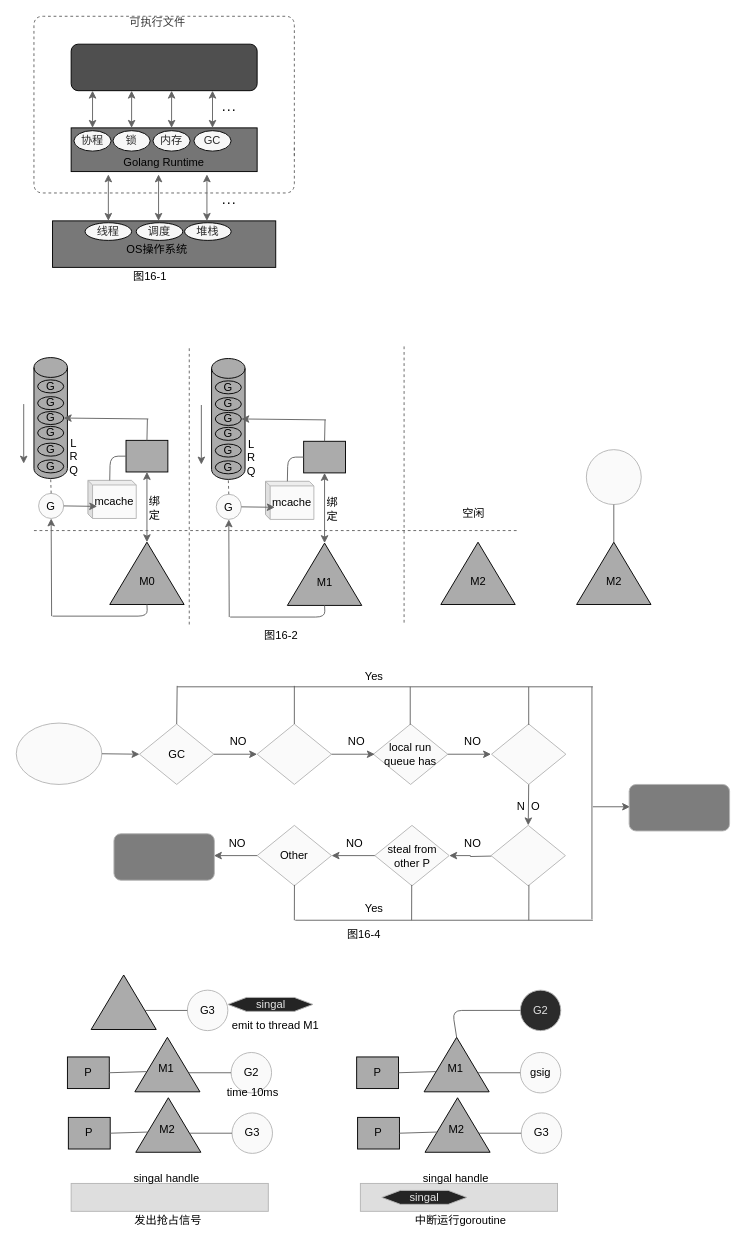
Some shapes in this 746 by 1246 pixel diagram are drawn without their labels. The centre of each missing label's shape, as x and y in pixels:
Application programe: the point at 163,67
execute: the point at 679,807
G0: the point at 613,477
global run queue has: the point at 528,753
M sysmon: the point at 123,1002
P1: the point at 324,456
P2: the point at 146,455
poll from net: the point at 527,855
rand get from global ok?: the point at 294,753
schedule: the point at 58,753
STOPM: the point at 163,856
